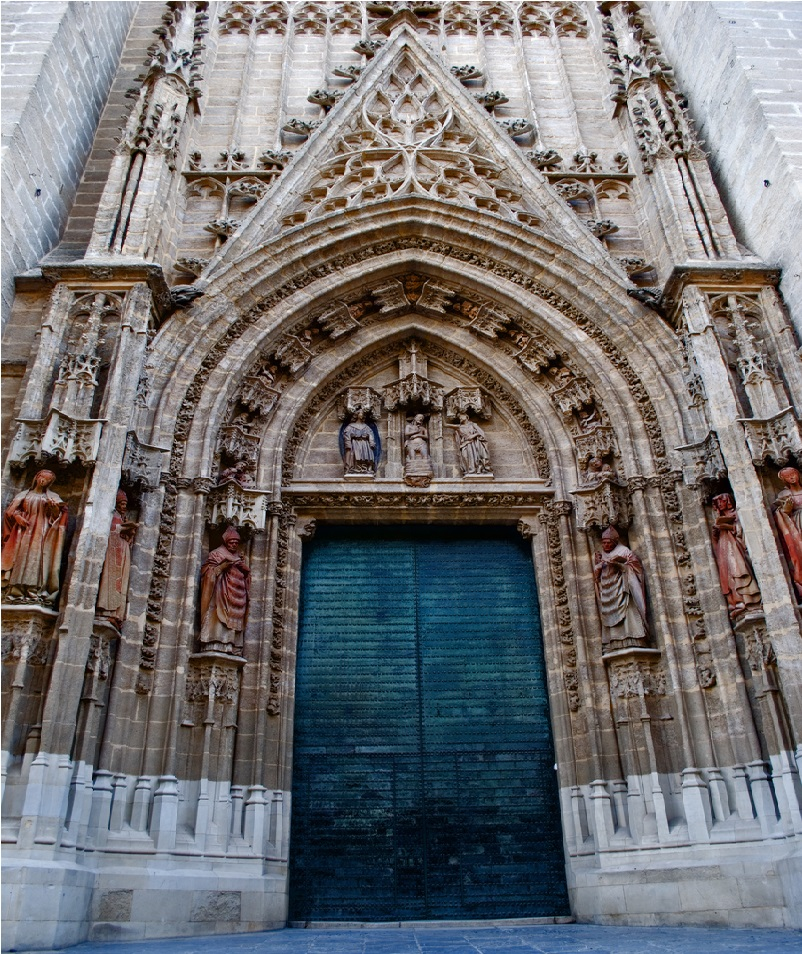arco-apuntado: (148, 190, 669, 485)
